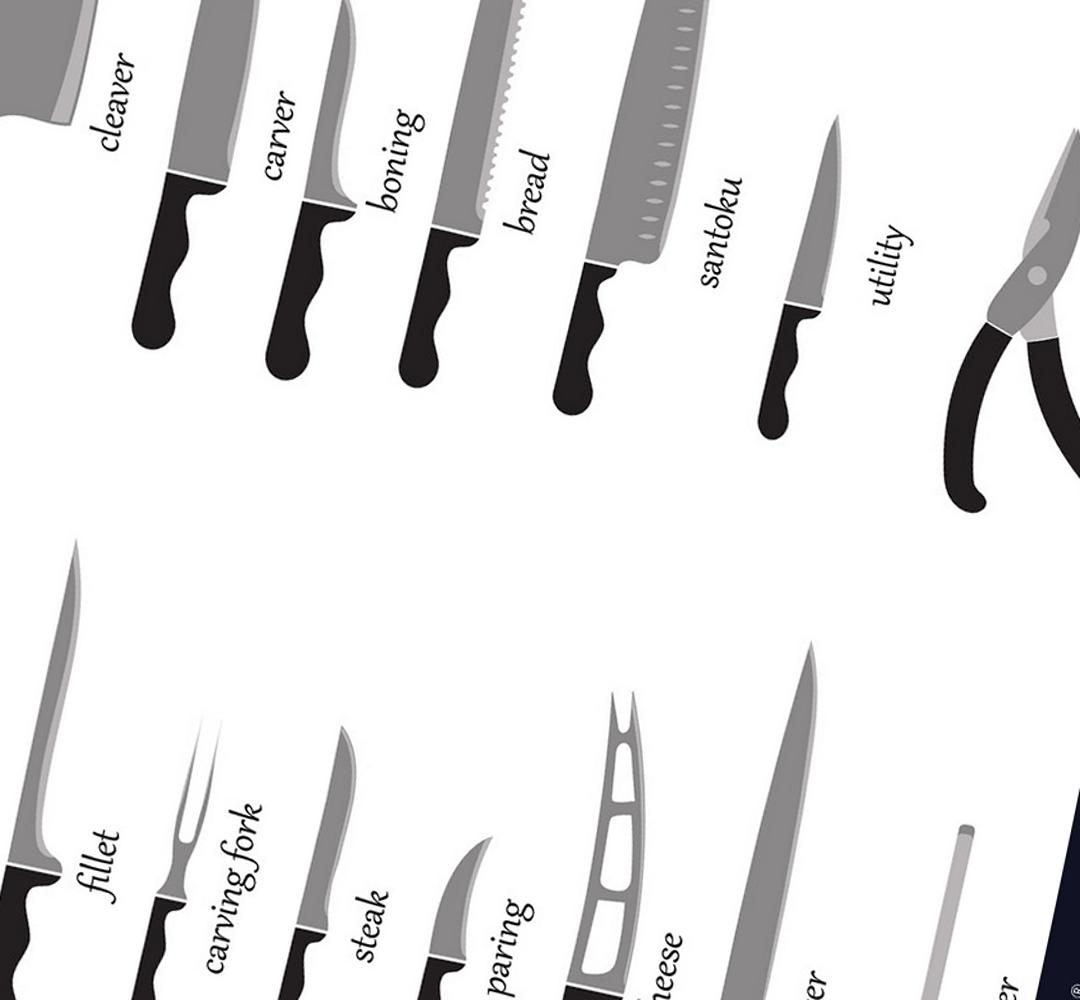knife: (761, 110, 846, 437)
